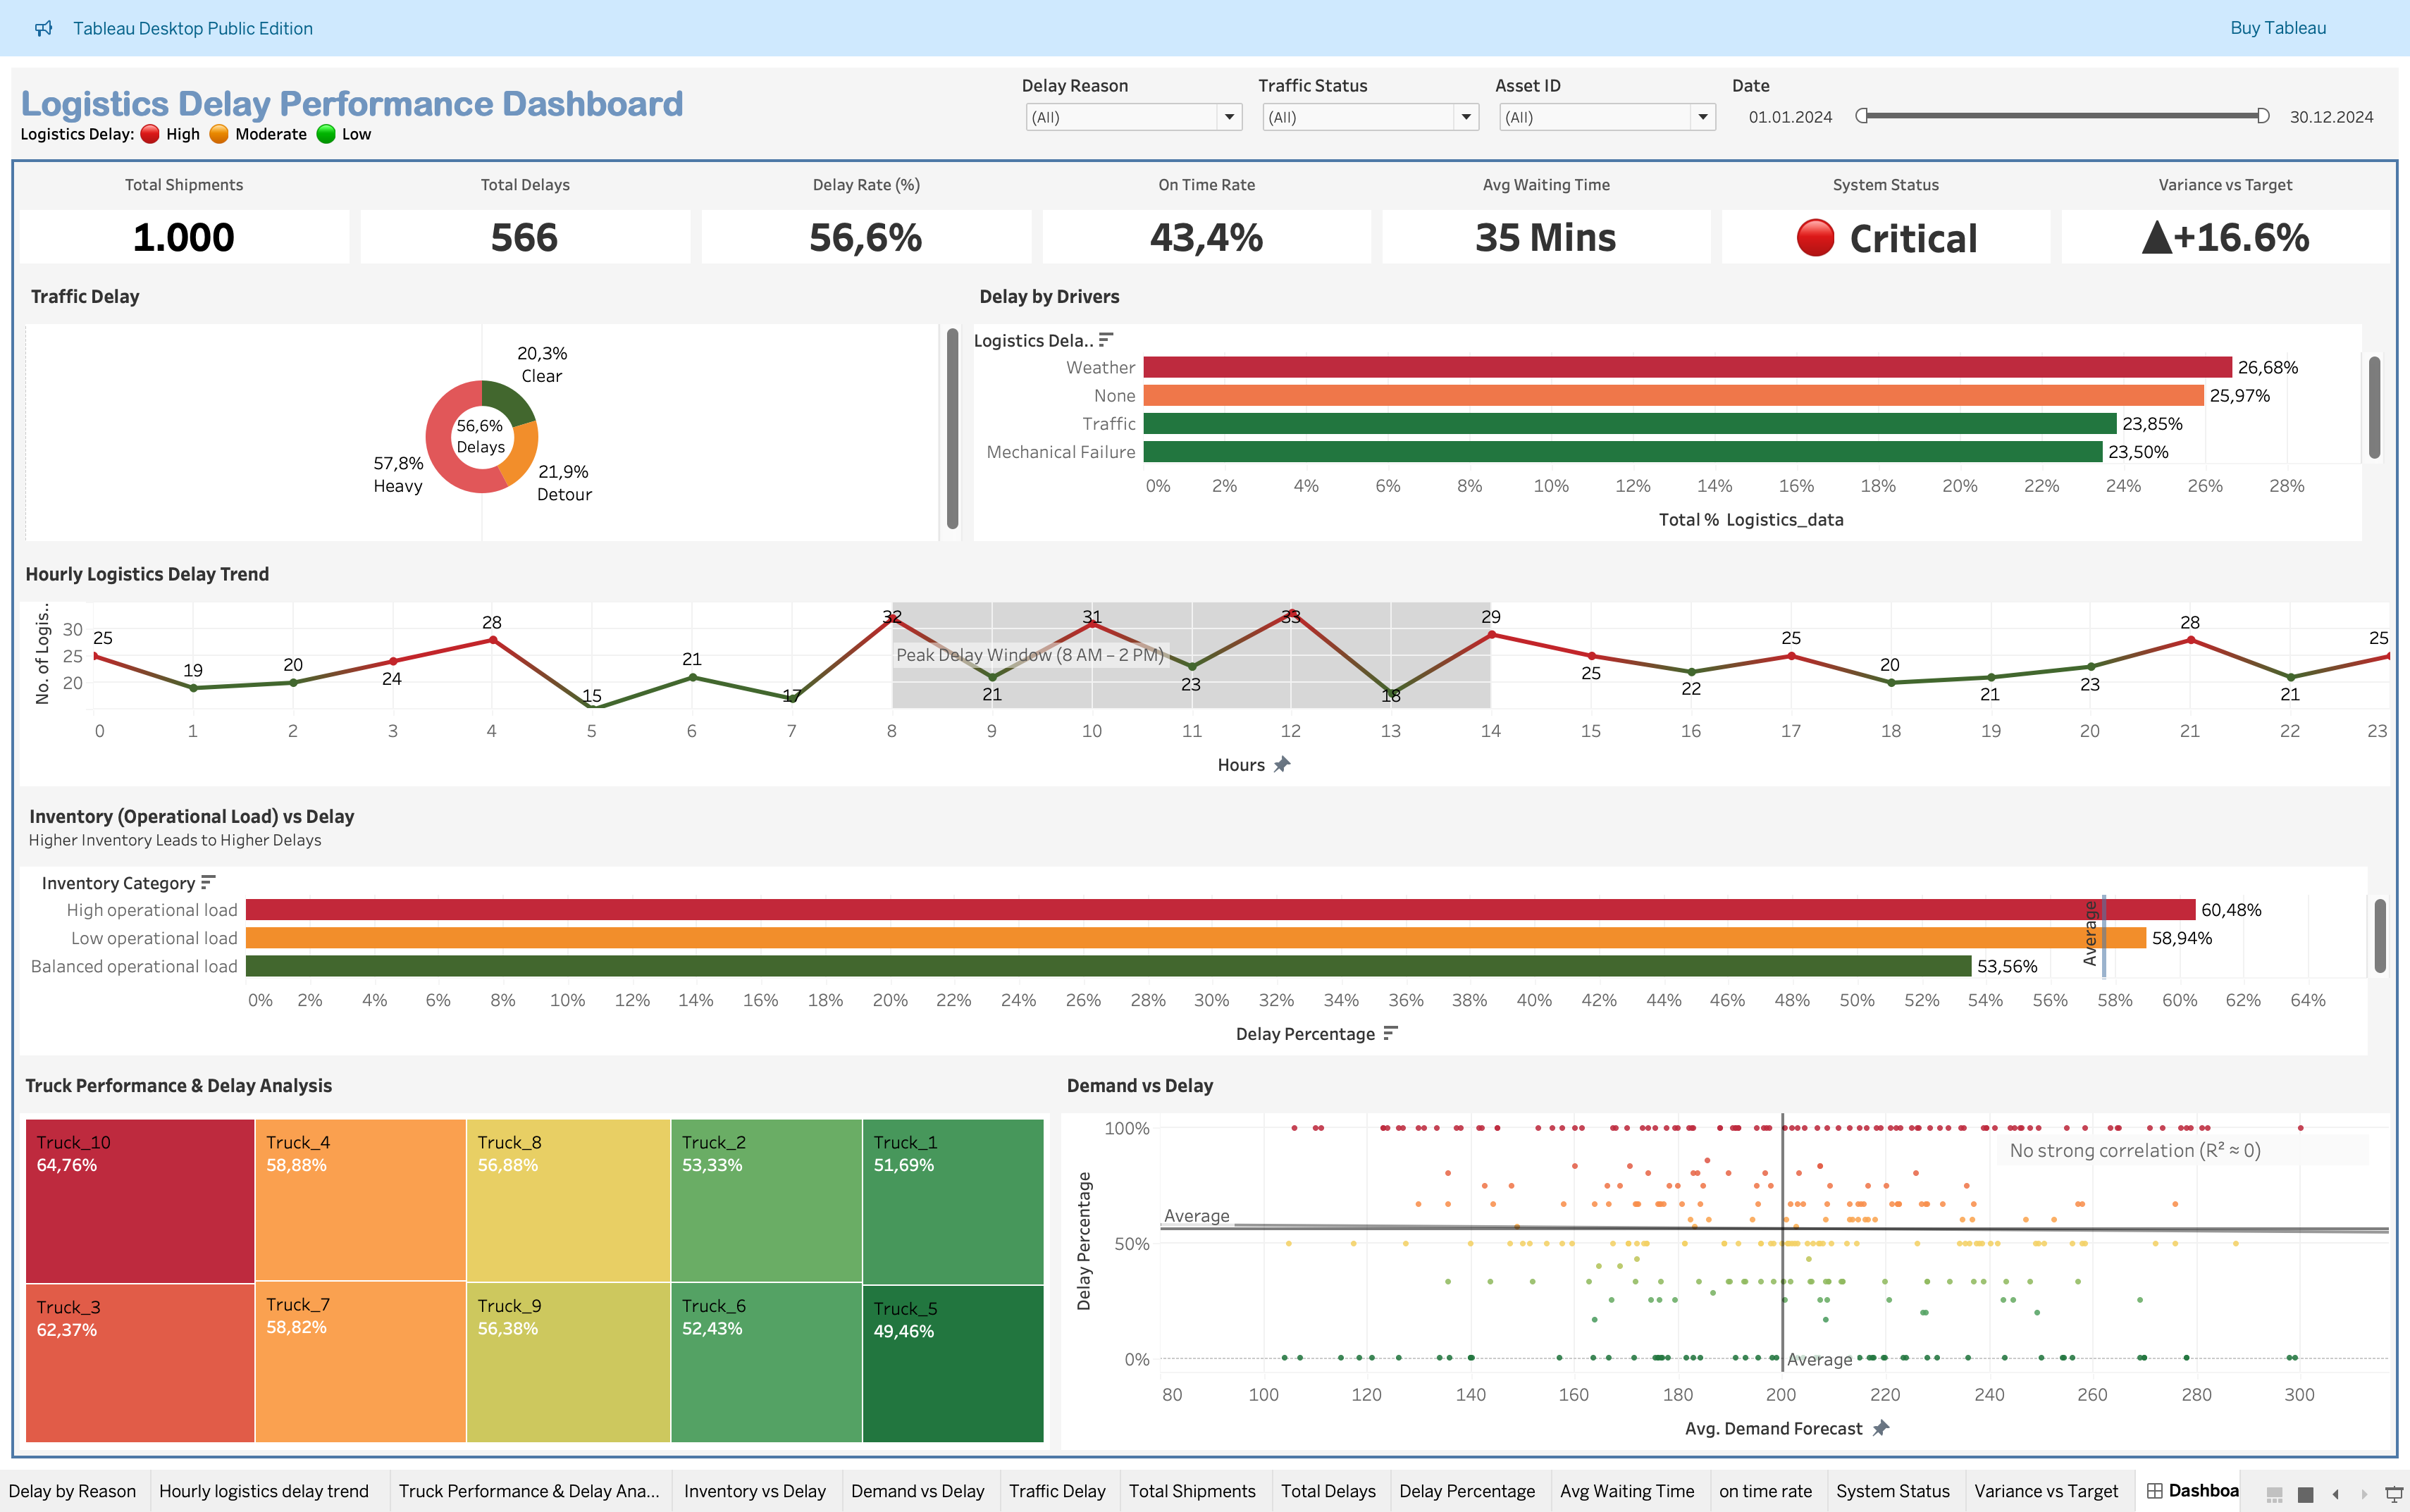

This screenshot's page, from the dashboard's own definition file:
{"tool":"tableau","page":{"name":"Dashboard 1","canvas":[1000,1000],"units":"permille","ordinal":0},"visuals":[{"type":"text","box":[10,9.8,412.2,64.5]},{"type":"filter","title":"Delay by Reason","param":"[federated.1rcc51516o36c713amaad1mzhzw2].[none:Logistics_Delay_Reason:nk]","box":[422.2,9.8,142,64.5]},{"type":"filter","title":"Traffic Delay","param":"[federated.1rcc51516o36c713amaad1mzhzw2].[none:Traffic_Status:nk]","box":[564.1,9.8,142,64.5]},{"type":"filter","title":"Truck Performance & Delay Analysis","param":"[federated.1rcc51516o36c713amaad1mzhzw2].[none:Asset_ID:nk]","box":[706.1,9.8,142,64.5]},{"type":"filter","title":"Demand vs Delay","param":"[federated.1rcc51516o36c713amaad1mzhzw2].[none:Date:qk]","box":[848,9.8,142,64.5]},{"type":"worksheet","title":"Total Shipments","mark":"Automatic","box":[12.5,77.4,140,93.4]},{"type":"worksheet","title":"Total Delays","mark":"Automatic","box":[152.5,77.4,140,93.4]},{"type":"worksheet","title":"Delay Percentage","mark":"Automatic","box":[292.5,77.4,140,93.4]},{"type":"worksheet","title":"on time rate","mark":"Automatic","box":[432.5,77.4,138.8,93.4]},{"type":"worksheet","title":"Avg Waiting Time","mark":"Automatic","box":[571.2,77.4,138.8,93.4]},{"type":"worksheet","title":"System Status","mark":"Automatic","box":[710,77.4,138.8,93.4]},{"type":"worksheet","title":"Variance vs Target","mark":"Automatic","box":[848.8,77.4,138.8,93.4]},{"type":"worksheet","title":"Traffic Delay","mark":"Pie","cols":["Calculation_2363123224894951425","Calculation_2363123224894951425"],"box":[17.5,172.7,841.2,239.6]},{"type":"worksheet","title":"Delay by Reason","mark":"Automatic","rows":["Logistics_Delay_Reason"],"cols":["Logistics_data.csv_26AAF209FF13482EB2E13C5665DE12EE"],"box":[858.8,172.7,123.8,239.6]},{"type":"worksheet","title":"Hourly logistics delay trend","mark":"Automatic","rows":["Logistics_Delay"],"cols":["Hours"],"box":[12.5,414.7,975,211.3]},{"type":"worksheet","title":" Inventory vs Delay","mark":"Automatic","rows":["Calculation_1725512031369474050"],"cols":["Calculation_1725512031369310209"],"box":[12.5,626,975,234.7]},{"type":"worksheet","title":"Truck Performance & Delay Analysis","mark":"Automatic","box":[12.5,860.6,923.8,127.1]},{"type":"worksheet","title":"Demand vs Delay","mark":"Circle","rows":["Calculation_1725512031369310209"],"cols":["Demand_Forecast"],"box":[936.2,860.6,51.2,127.1]}]}

Visuals, with their boxes on the dashboard's canvas, which has no fixed pixel size, in thousandths of its width and height (x1, y1, x2, y2). These are canvas units, not pixel positions in the 2410x1512 screenshot, which may show the page scaled, cropped or inside an application window:
text: x1=10 y1=10 x2=422 y2=74
"Delay by Reason" filter: x1=422 y1=10 x2=564 y2=74
"Traffic Delay" filter: x1=564 y1=10 x2=706 y2=74
"Truck Performance & Delay Analysis" filter: x1=706 y1=10 x2=848 y2=74
"Demand vs Delay" filter: x1=848 y1=10 x2=990 y2=74
"Total Shipments" worksheet: x1=12 y1=77 x2=152 y2=171
"Total Delays" worksheet: x1=152 y1=77 x2=292 y2=171
"Delay Percentage" worksheet: x1=292 y1=77 x2=432 y2=171
"on time rate" worksheet: x1=432 y1=77 x2=571 y2=171
"Avg Waiting Time" worksheet: x1=571 y1=77 x2=710 y2=171
"System Status" worksheet: x1=710 y1=77 x2=849 y2=171
"Variance vs Target" worksheet: x1=849 y1=77 x2=988 y2=171
"Traffic Delay" worksheet (Pie marks): x1=18 y1=173 x2=859 y2=412
"Delay by Reason" worksheet: x1=859 y1=173 x2=983 y2=412
"Hourly logistics delay trend" worksheet: x1=12 y1=415 x2=988 y2=626
" Inventory vs Delay" worksheet: x1=12 y1=626 x2=988 y2=861
"Truck Performance & Delay Analysis" worksheet: x1=12 y1=861 x2=936 y2=988
"Demand vs Delay" worksheet (Circle marks): x1=936 y1=861 x2=987 y2=988
